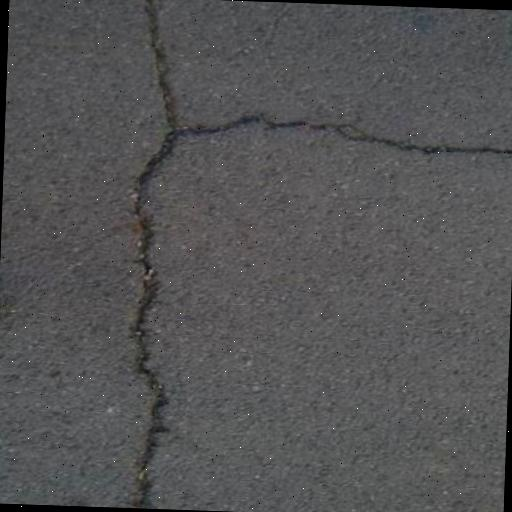spalling: (117, 0, 184, 499), (181, 97, 506, 165)
